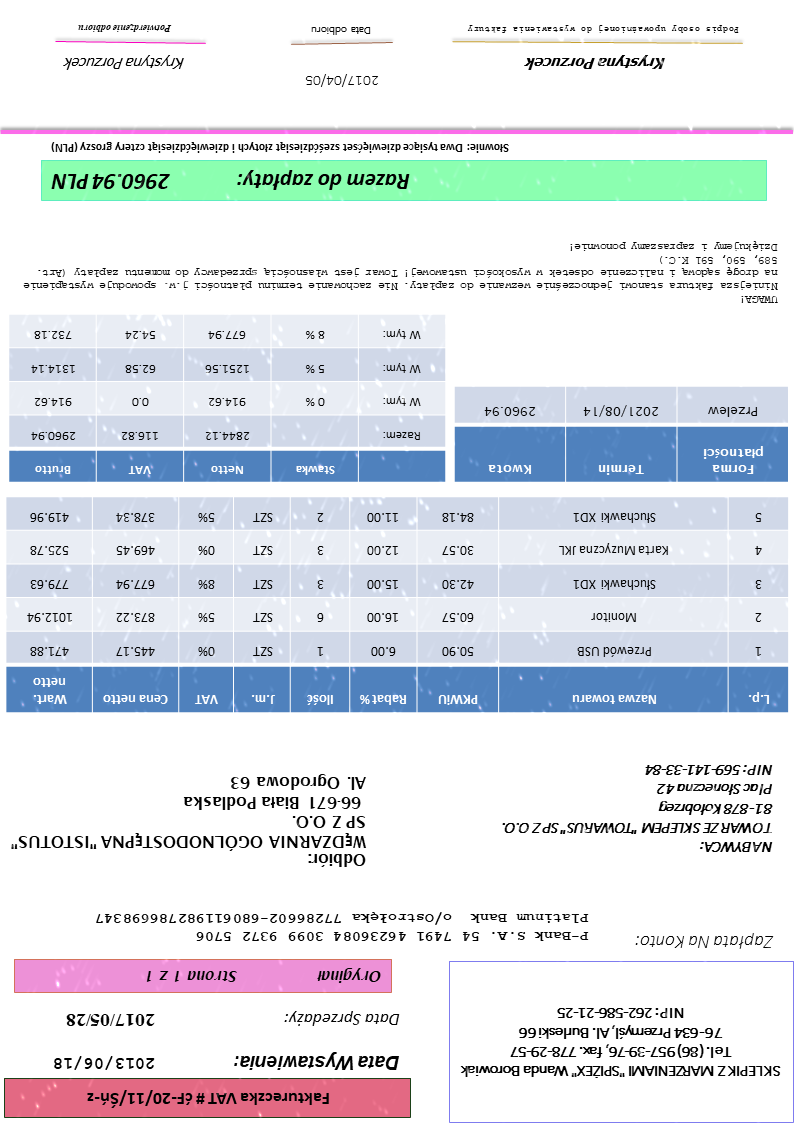Table: (4, 495, 790, 713), (6, 314, 447, 483), (454, 385, 791, 483)
TextBox: (21, 237, 782, 307), (8, 771, 368, 869), (497, 760, 777, 856), (459, 1003, 784, 1084), (91, 907, 592, 946), (49, 138, 512, 157), (49, 169, 413, 193), (84, 1088, 332, 1109), (467, 20, 742, 38), (141, 967, 381, 987), (231, 1050, 401, 1074), (632, 930, 777, 951), (522, 51, 667, 72), (61, 52, 187, 74), (283, 1009, 402, 1028), (52, 1052, 157, 1073), (303, 70, 382, 93), (66, 1010, 156, 1029), (75, 21, 173, 35), (308, 23, 373, 39)
